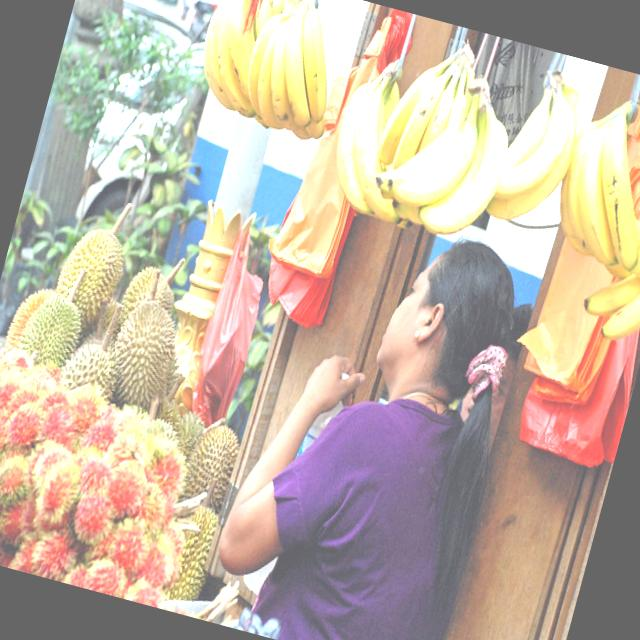Vehicle: (59, 0, 211, 245)
